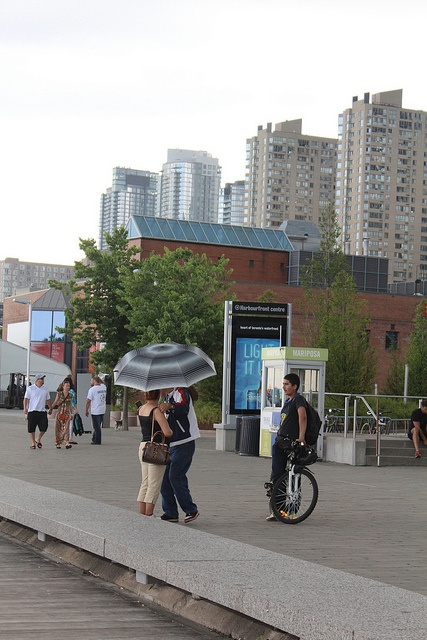non-vehicle: (261, 431, 322, 523), (359, 411, 390, 433), (324, 407, 341, 432)
